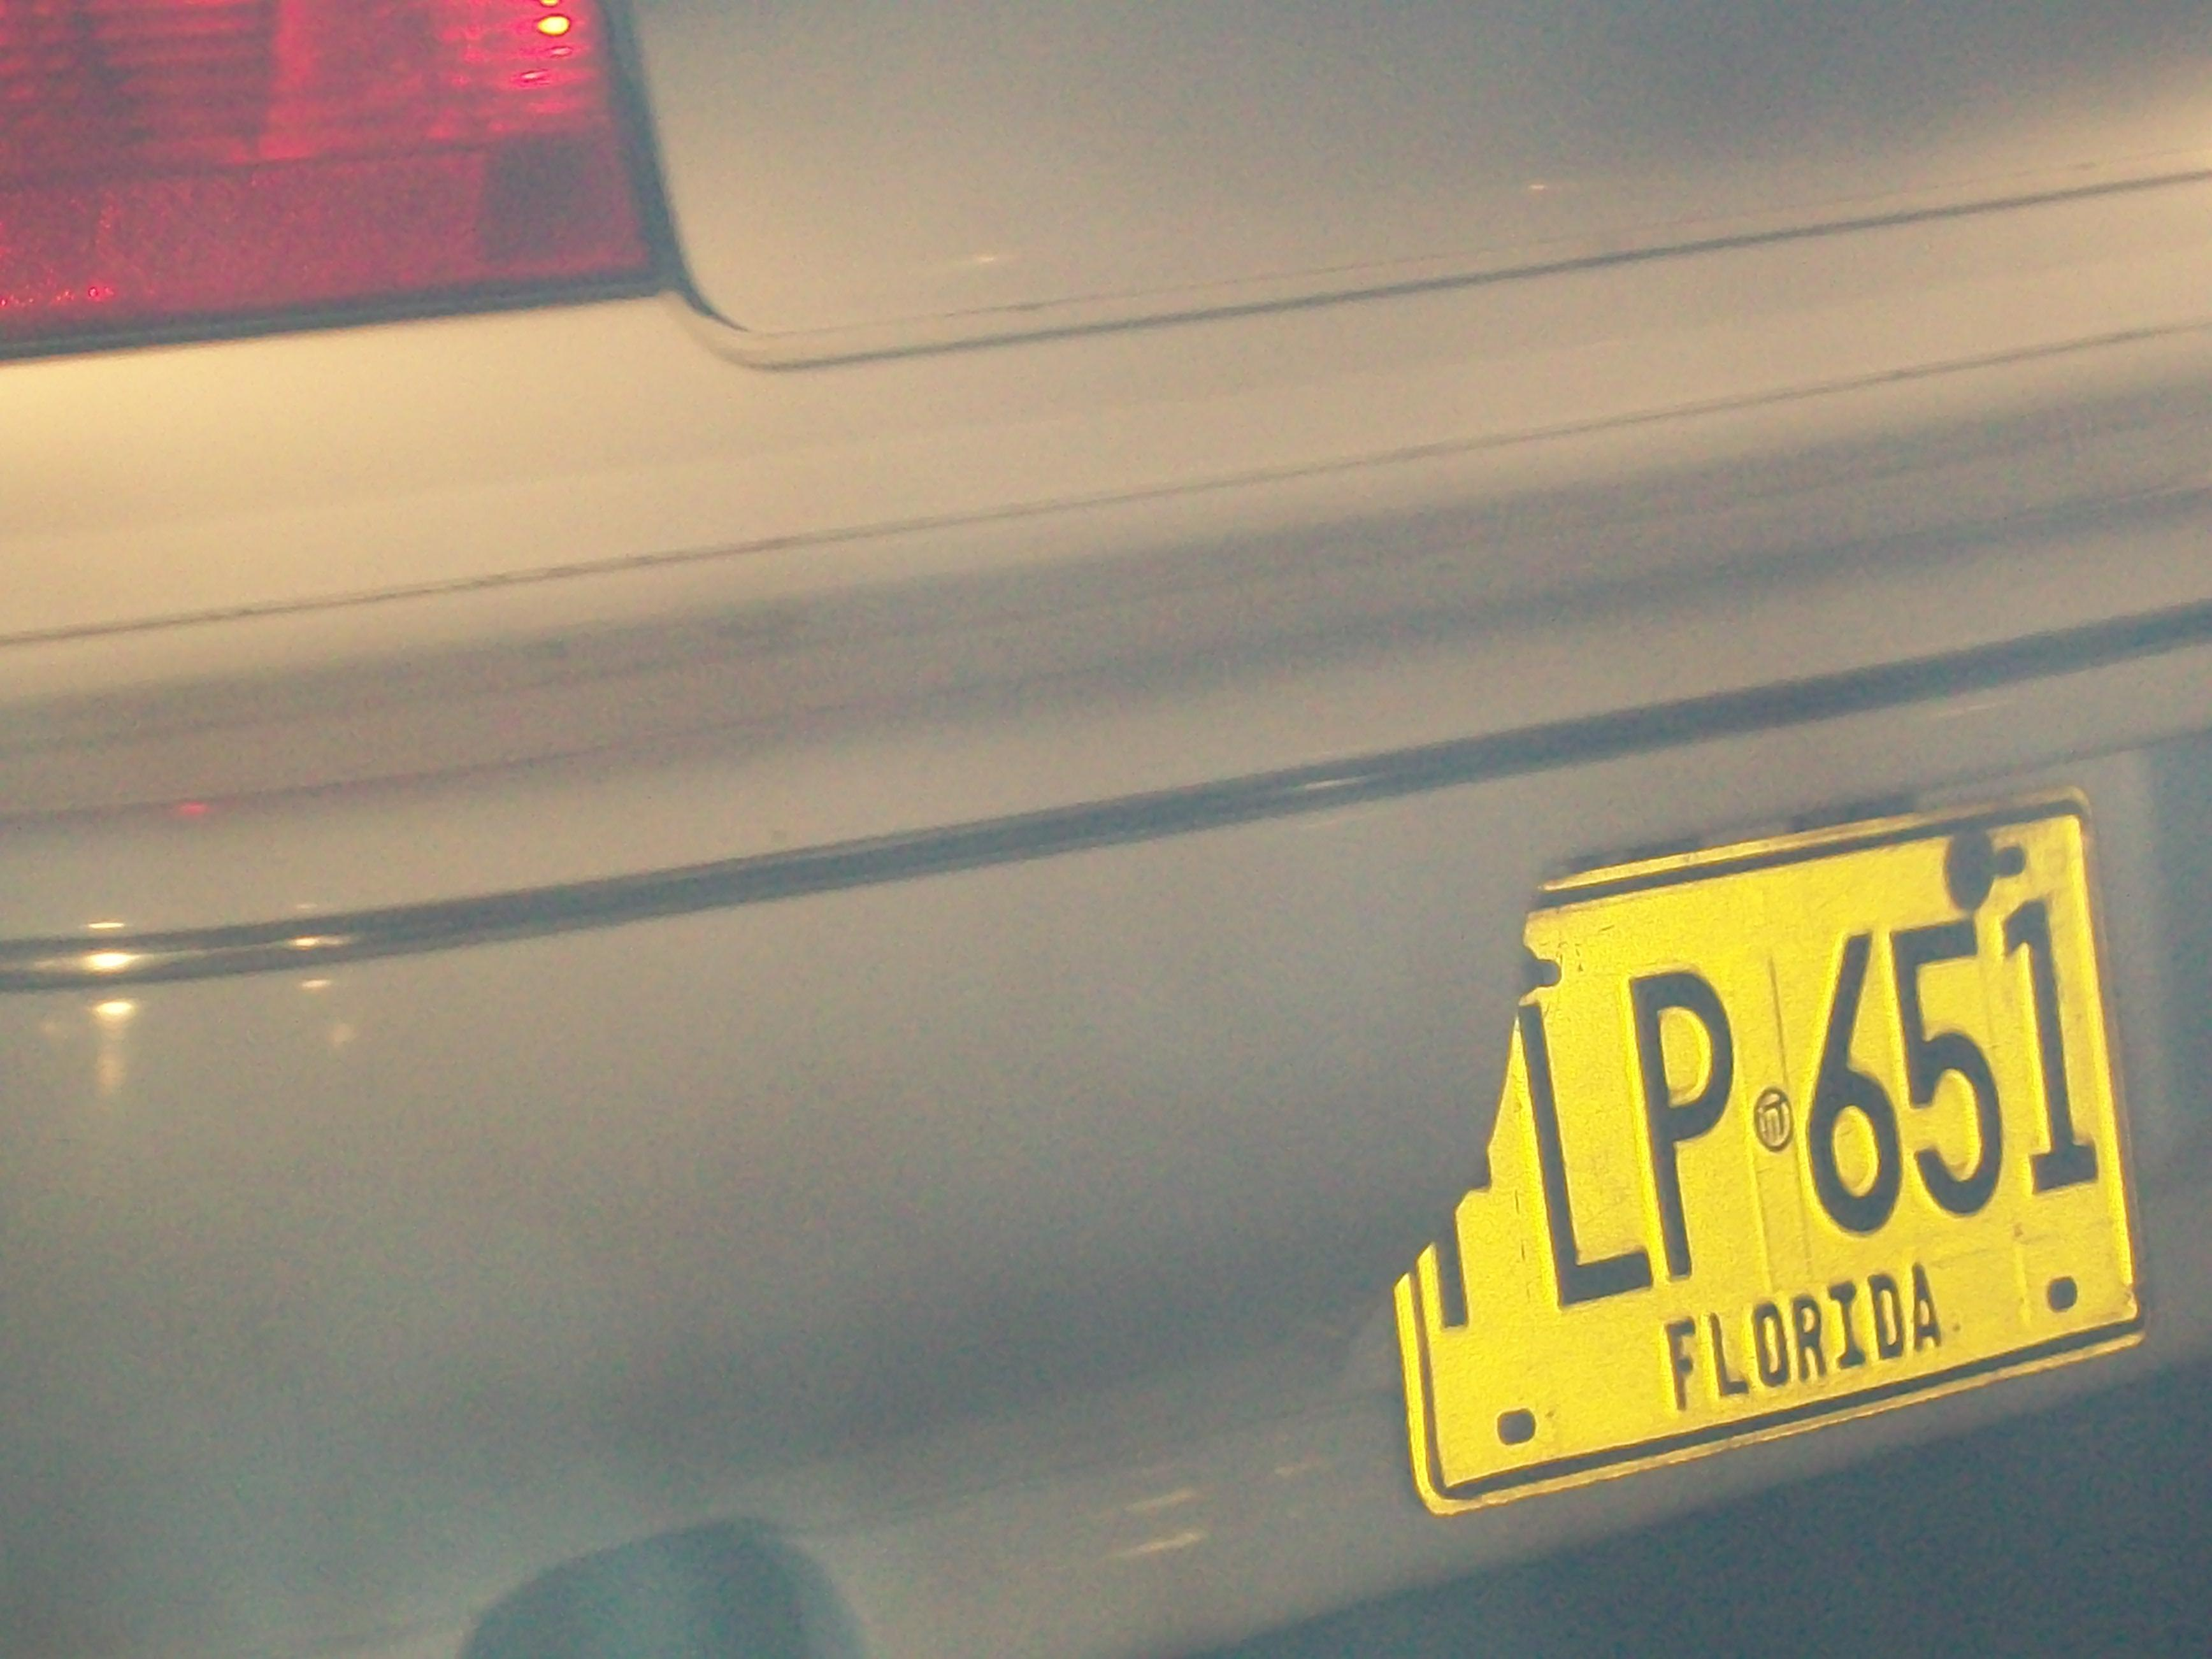placas: (1385, 786, 2148, 1519)
